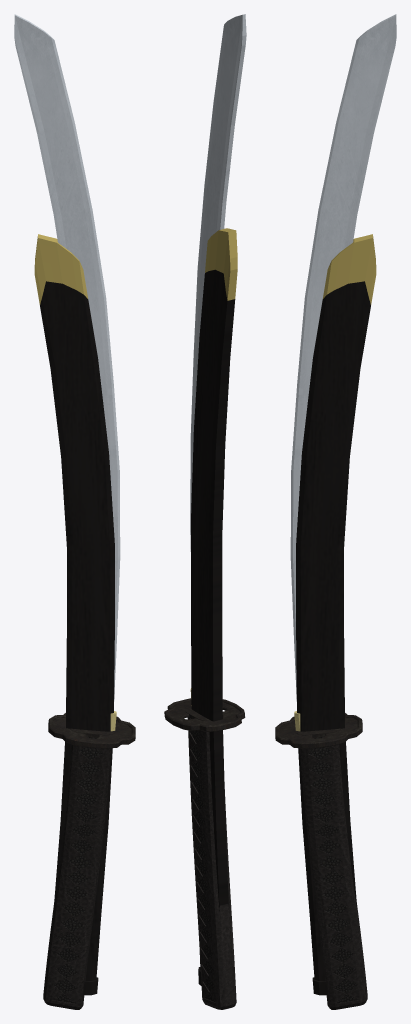
File: 무기_카타나.fbx
The picture shows the model from 3 angles, left to right: view 1: azimuth 90°, elevation 25°; view 2: azimuth 210°, elevation 25°; view 3: azimuth 270°, elevation 25°; orthographic projection.
Visible parts, largest first — view 1: 카타나검집, 카타나; view 2: 카타나검집, 카타나; view 3: 카타나검집, 카타나.
Part boxes in pixels (x1,y1,x2,y2): 카타나검집: (34,234,114,995); 카타나: (14,14,135,1009); 카타나검집: (191,228,237,985); 카타나: (164,14,246,1009); 카타나검집: (296,234,376,995); 카타나: (275,14,396,1009).
Size of the model in its own units: 4.08 by 60.79 by 6.75.
